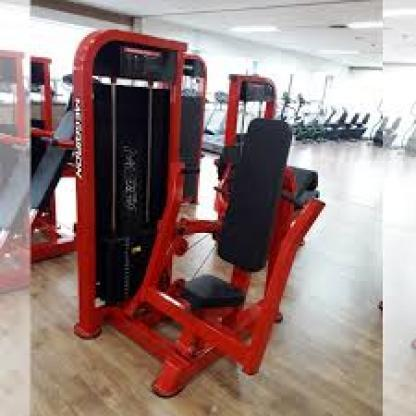Chest Press machine: (59, 27, 329, 400)
